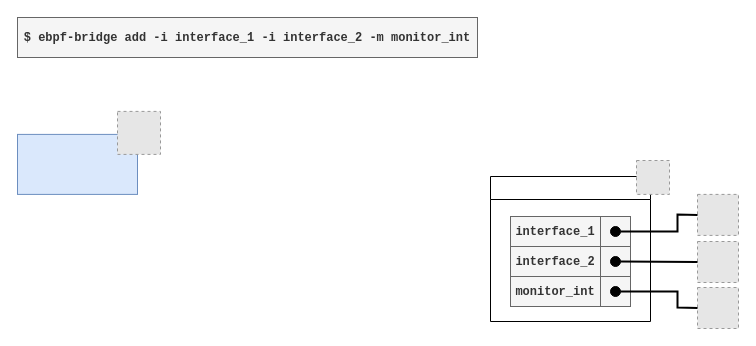
The diagram is 756 pixels wide and 346 high, and some of its shapes have lost their labels. Grey dashed boxes stand in for pictures. The box of each missing label's shape, as (x1, y1, x2, y2) in pixels:
devmap_XY: (490, 176, 650, 322)
ebpf-bridge service: (16, 133, 138, 194)
